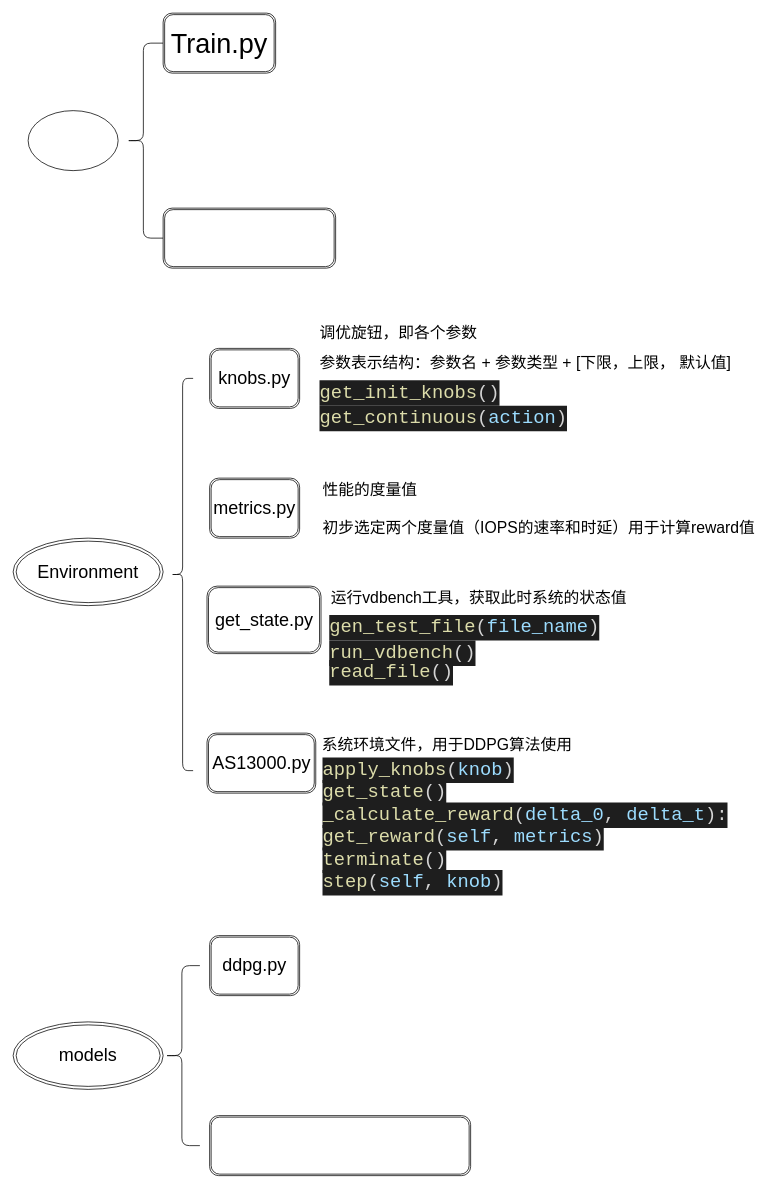
The diagram is 776 pixels wide and 1189 high, and some of its shapes have lost their labels. The centre of each missing label's shape, as x and y in pixels:
Evaluate.py: (249,237)
prioritized_replay_memory.py: (340,1145)
Tuner: (72,140)
